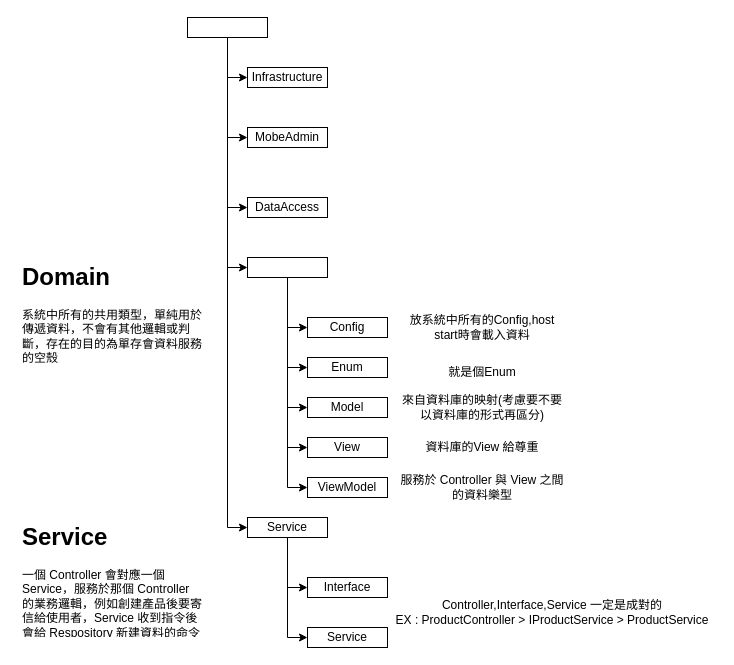
This 734x665 diagram has some shape labels left out. The shapes that lost their labels are listed below. From the top down, each one's centre as x and y in pixels, then its label:
the point at 227,27: Root
the point at 287,267: Domain
